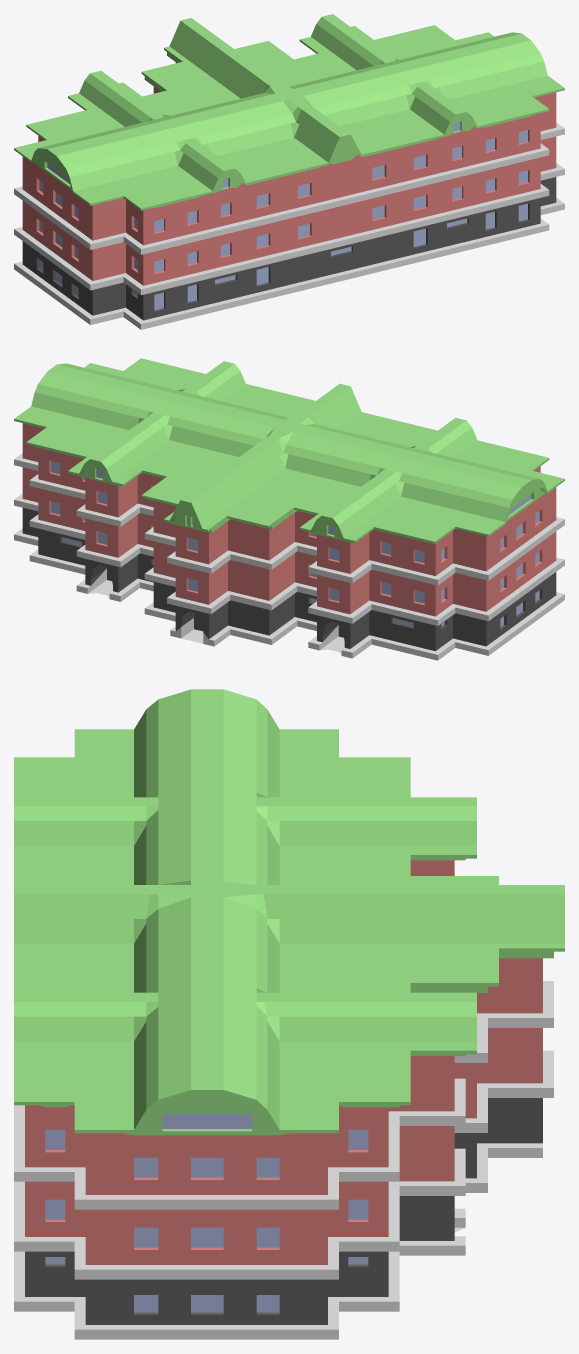
Rendered from MorHouse3_LOD1.fbx.
The picture shows the model from 3 angles, top to bottom: view 1: azimuth 30°, elevation 25°; view 2: azimuth 150°, elevation 25°; view 3: azimuth 270°, elevation 25°; orthographic projection. The views are drawn at different scales.
Parts seen in each view (by area): view 1: Cube.001; view 2: Cube.001; view 3: Cube.001.
Boxes of the visible parts, <box> form: Cube.001: <box>14,14,564,329</box>; Cube.001: <box>14,358,564,660</box>; Cube.001: <box>14,689,564,1339</box>.
Bounding box in the file's own units: 8600 × 2500 × 5000.
